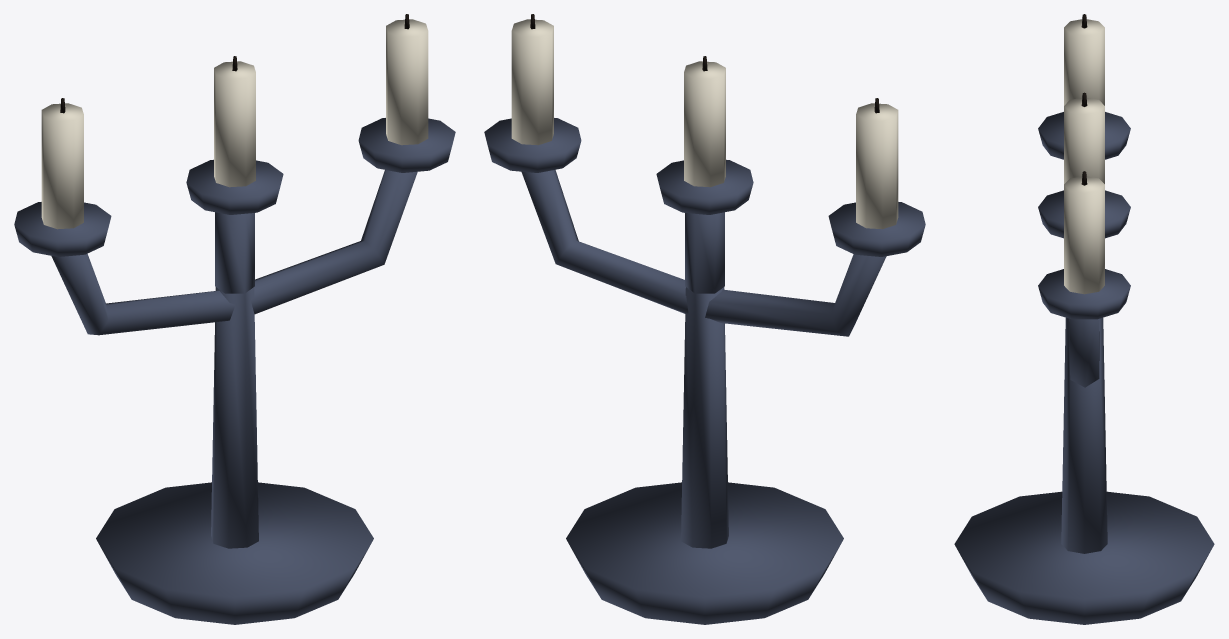
File: granite_candelabra_v0.glb
The picture shows the model from 3 angles, left to right: view 1: azimuth 30°, elevation 25°; view 2: azimuth 150°, elevation 25°; view 3: azimuth 270°, elevation 25°; orthographic projection. The views are drawn at different scales.
Visible parts, largest first — view 1: granite_candelabra_v0; view 2: granite_candelabra_v0; view 3: granite_candelabra_v0.
Part boxes in pixels (<box>): granite_candelabra_v0: <box>14,14,455,624</box>; granite_candelabra_v0: <box>484,14,925,624</box>; granite_candelabra_v0: <box>954,14,1214,624</box>.
Size of the model in its own units: 0.4951 by 0.575 by 0.28.
